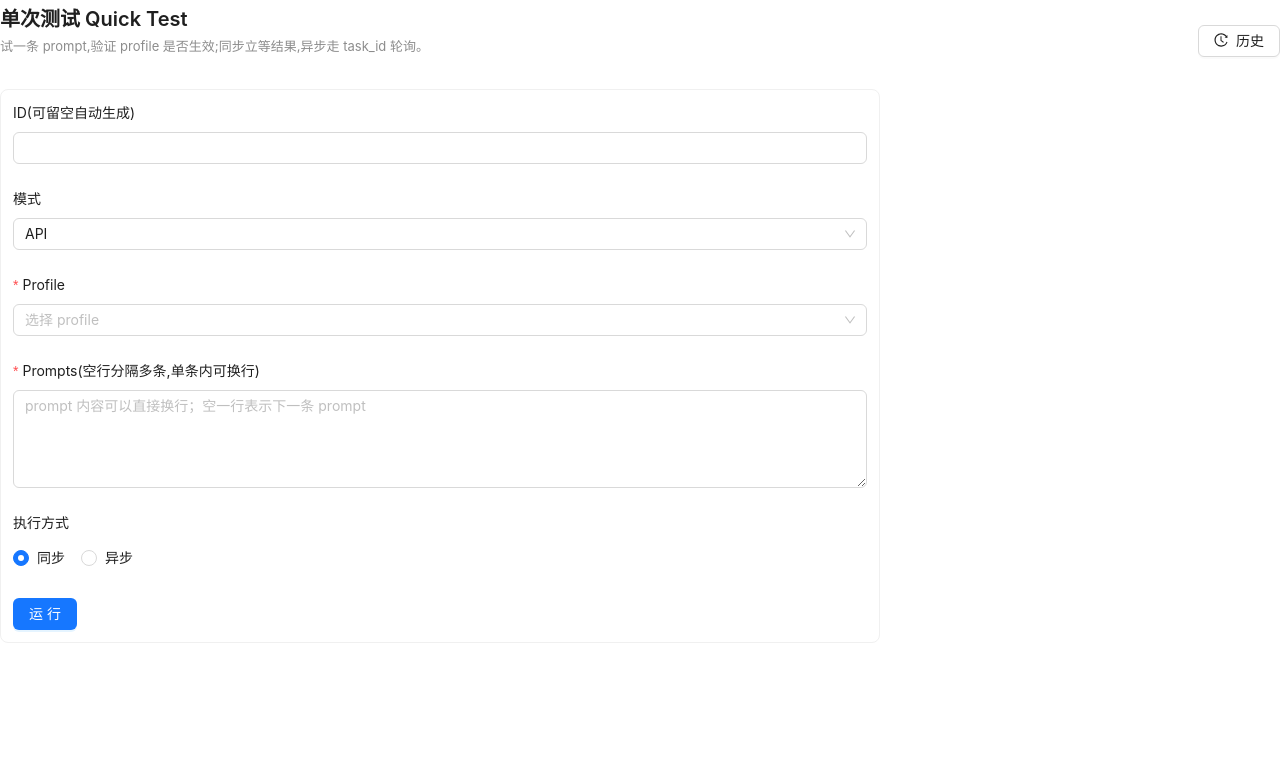
Test case: TestsQuick › renders rule and llm extraction panels for sync results
The image size is (1280, 782).
Press the mouse on the dropdown labelled "模式" at (34, 199), box [13,188,55,210]
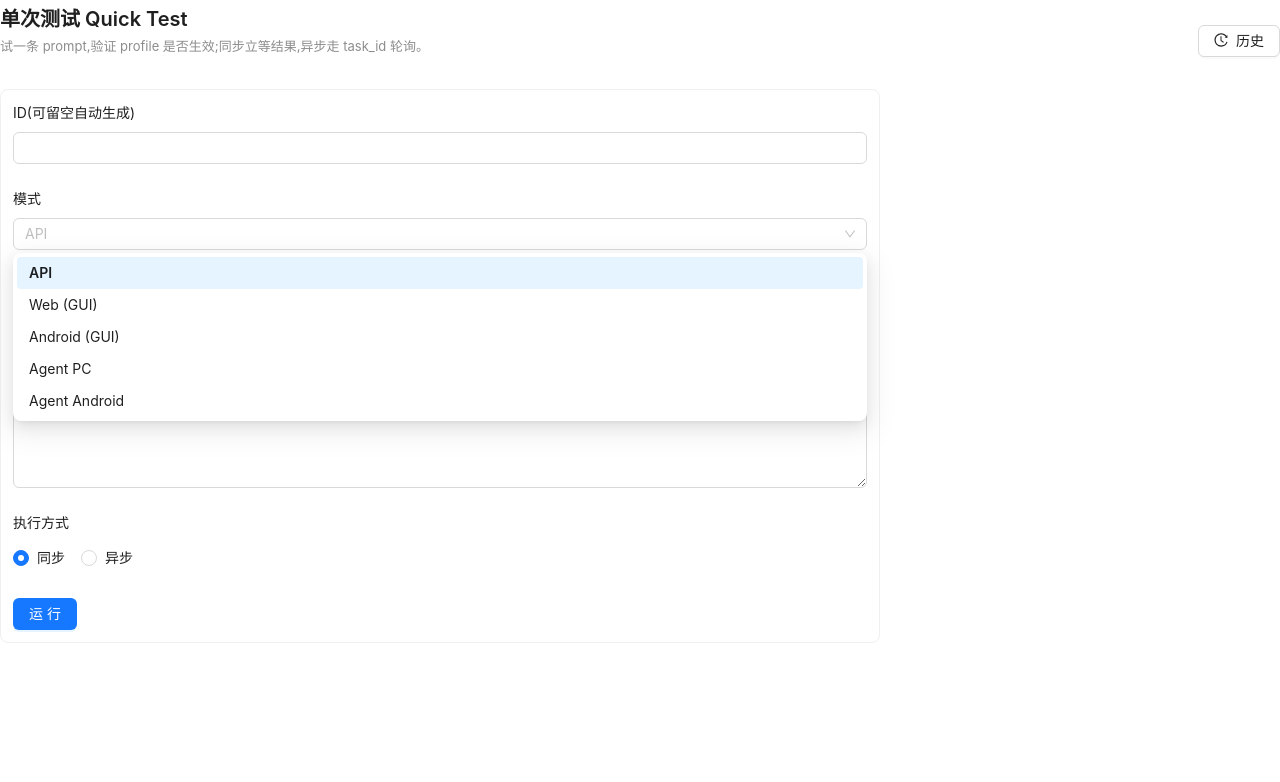
Click the text "Android (GUI)" at (74, 336), box [29,328,120,345]
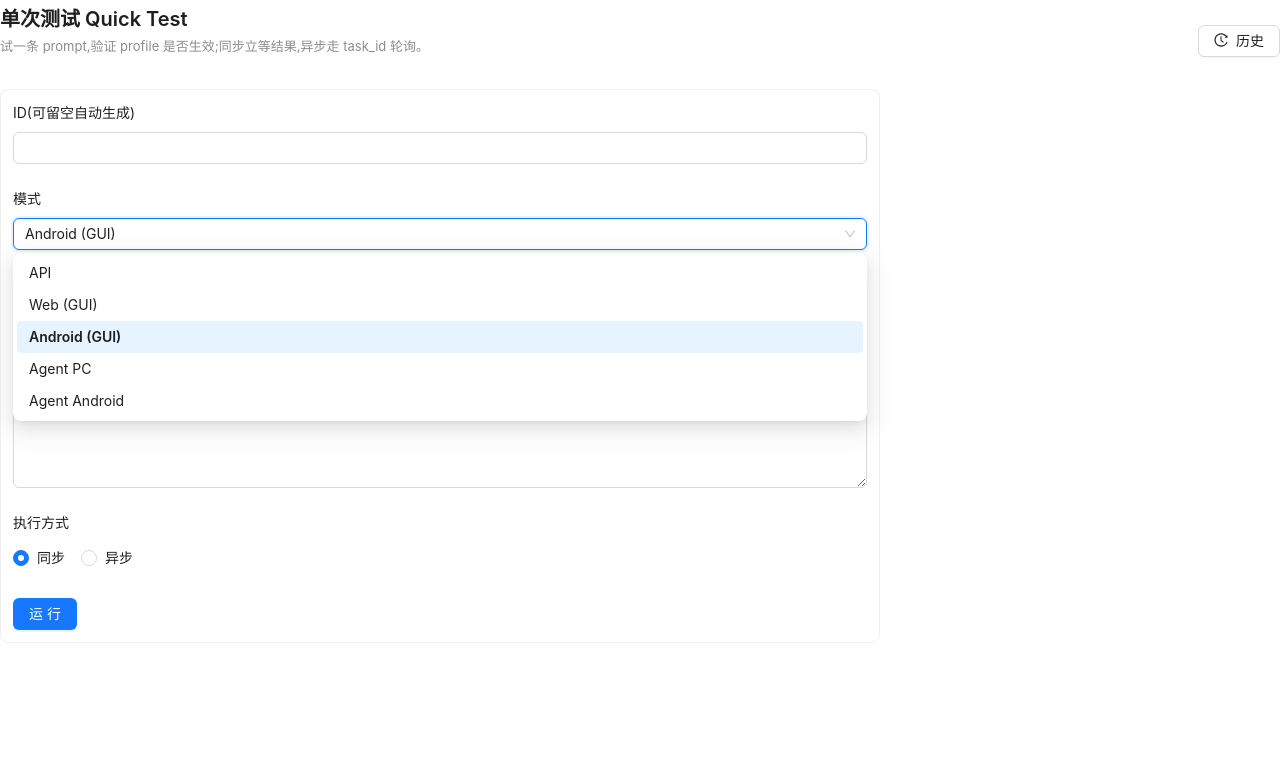
Press the mouse on the dropdown labelled "Profile" at (46, 285), box [13,274,79,296]
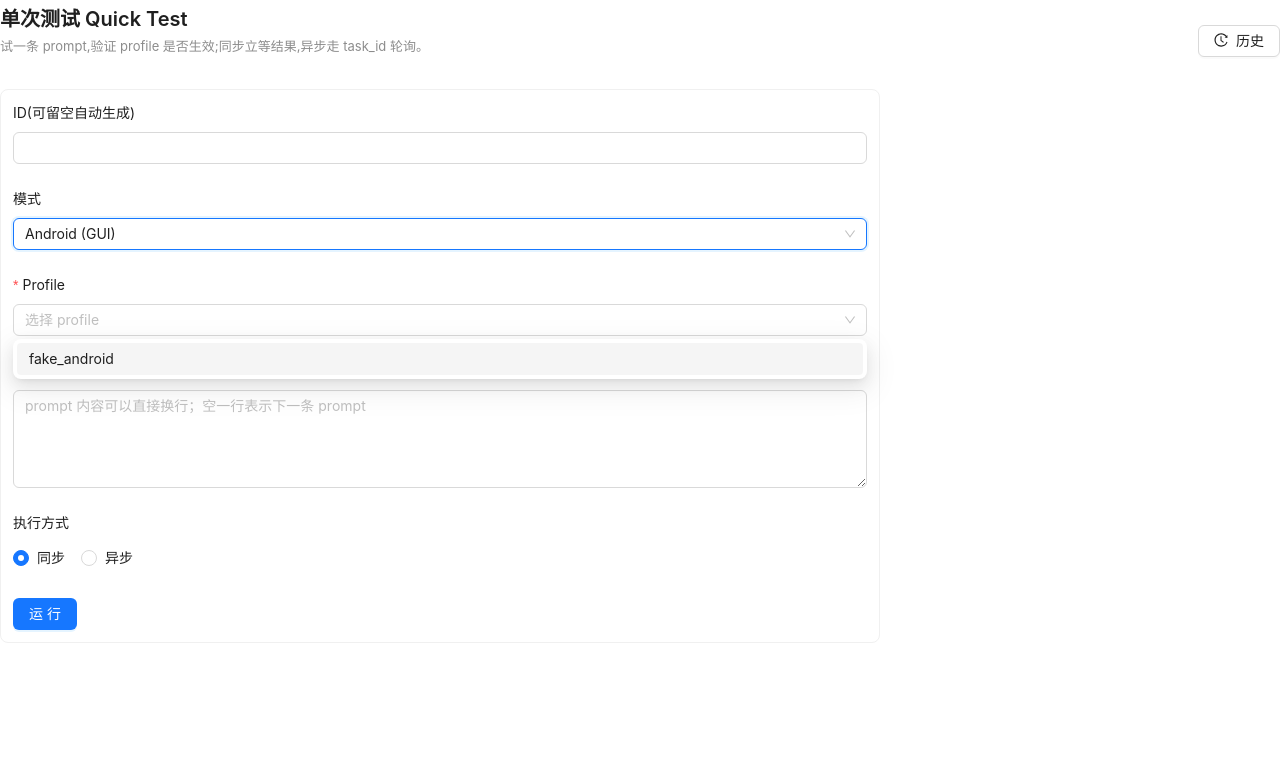
Click the text "fake_android" at (71, 358), box [29,350,114,367]
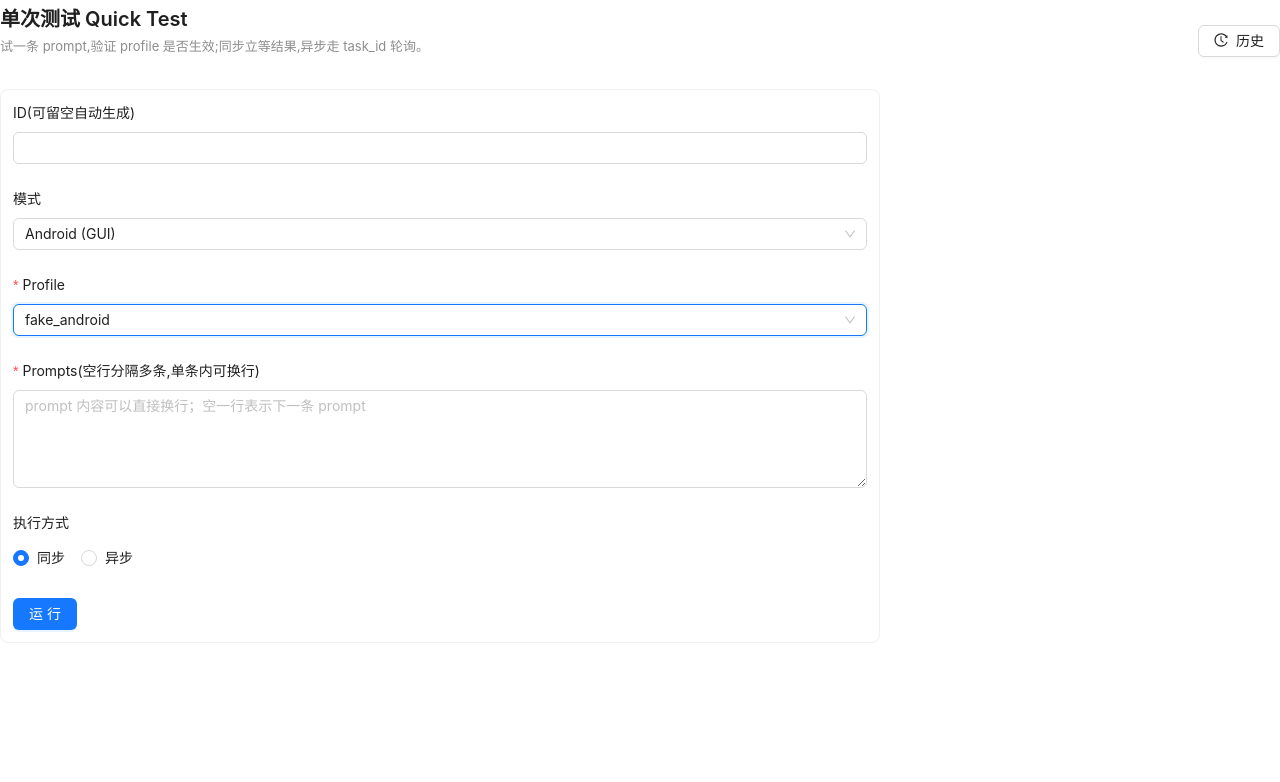
Type "你好" into the text box labelled "Prompts(空行分隔多条,单条内可换行)" at (440, 439), box [13,390,867,488]
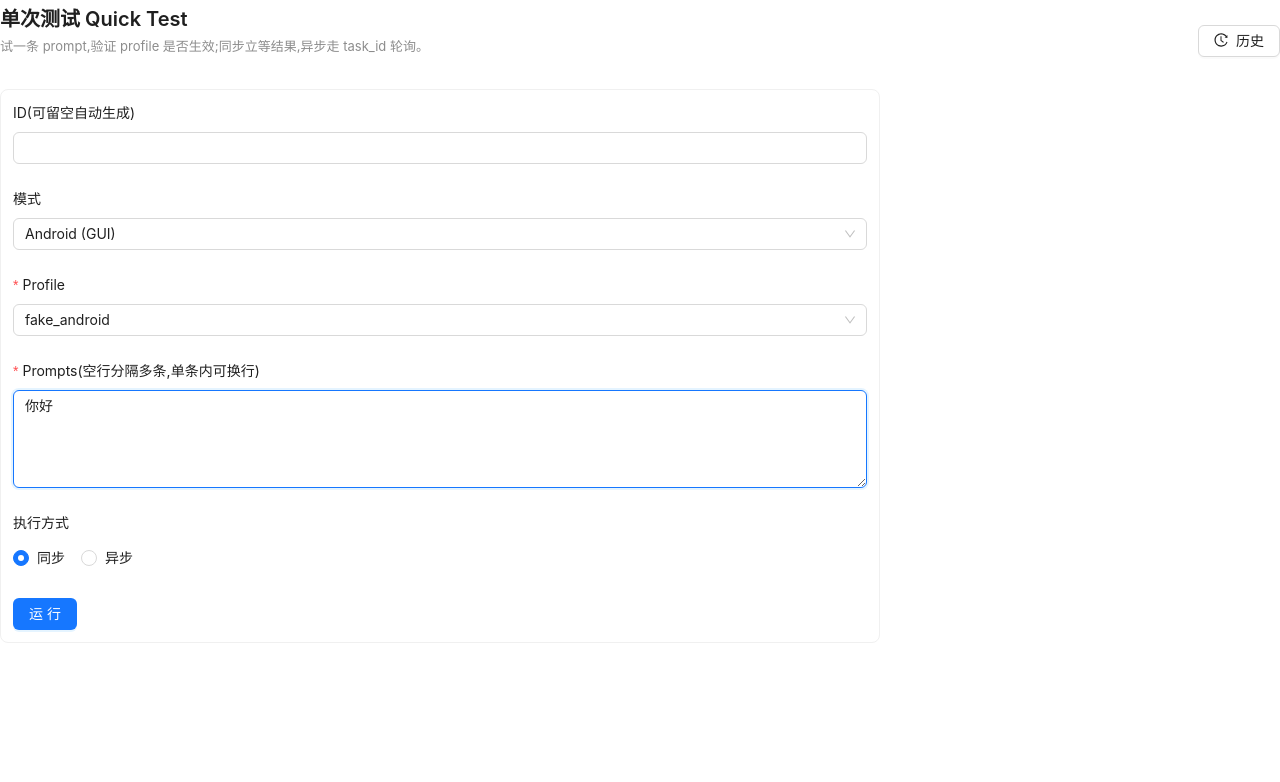
Click the button "运 行" at (45, 614), box [13,598,77,630]
(page scrolled)
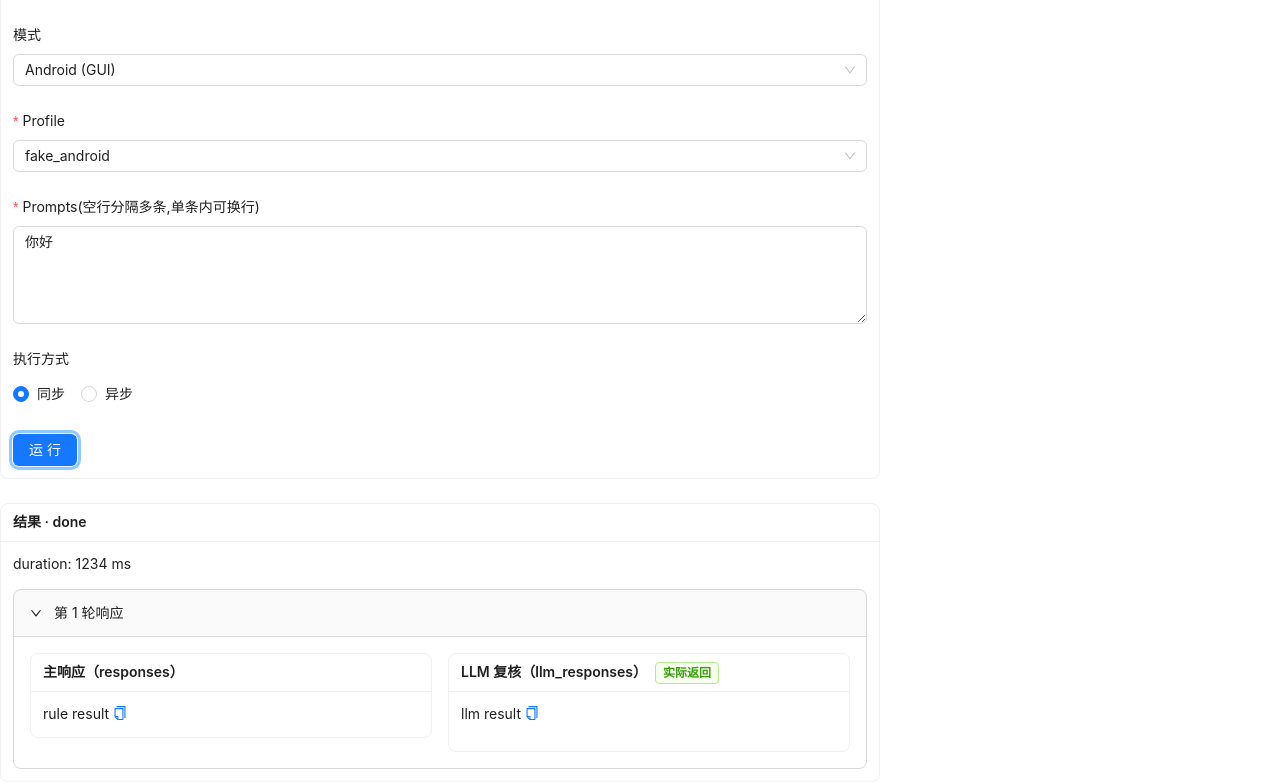
Now the text "结果 · done" is shown, box [13,513,87,530]
Now the text "主响应（responses）" is shown, box [43,663,184,680]
Now the text "LLM 复核（llm_responses）" is shown, box [461,663,647,680]
